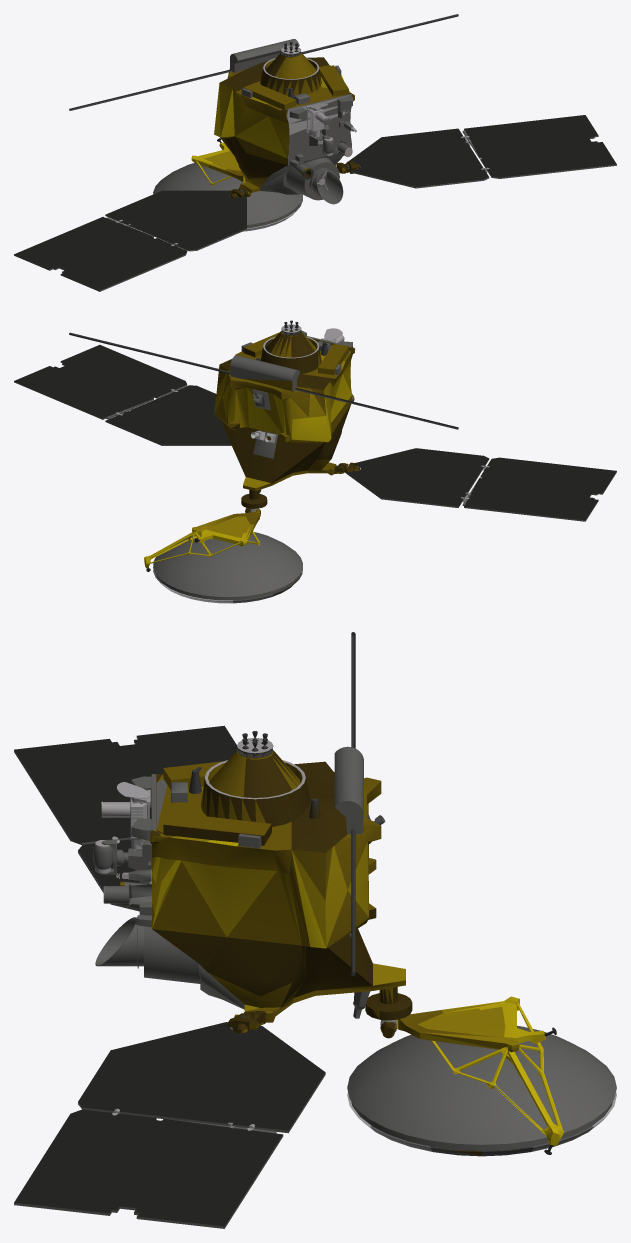
Rendered from mro.glb.
3 renders of one model, top to bottom at view 1: azimuth 30°, elevation 25°; view 2: azimuth 150°, elevation 25°; view 3: azimuth 270°, elevation 25°, orthographic. The views are drawn at different scales.
Visible parts, largest first — view 1: body, foil; view 2: body, foil; view 3: body, foil.
Part boxes in pixels (left/top/right/bottom): body: left=14, top=39, right=616, bottom=291; foil: left=69, top=14, right=458, bottom=231; body: left=14, top=324, right=616, bottom=600; foil: left=69, top=320, right=458, bottom=603; body: left=14, top=725, right=616, bottom=1228; foil: left=120, top=632, right=616, bottom=1156.
Bounding box in the file's own units: 13.18 × 4.88 × 6.71.
